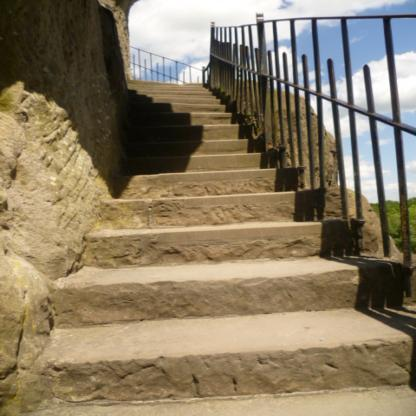stair: (103, 70, 347, 416)
